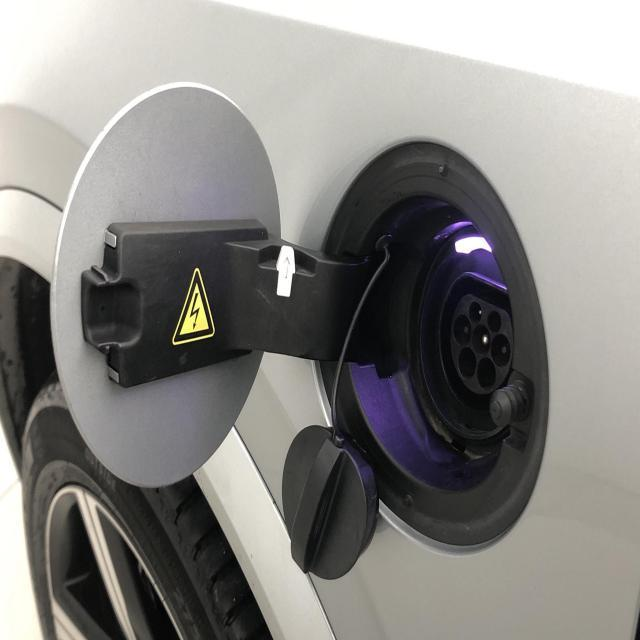Type 2: (411, 249, 545, 432)
